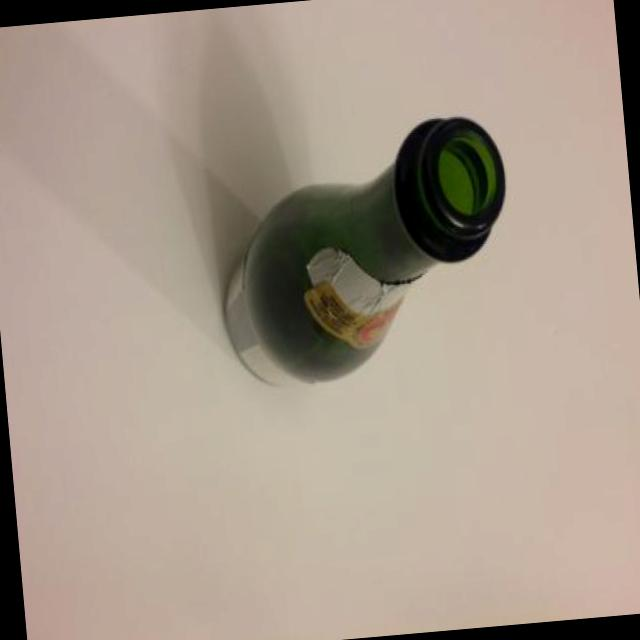chai_thuy_tinh: (222, 115, 506, 382)
